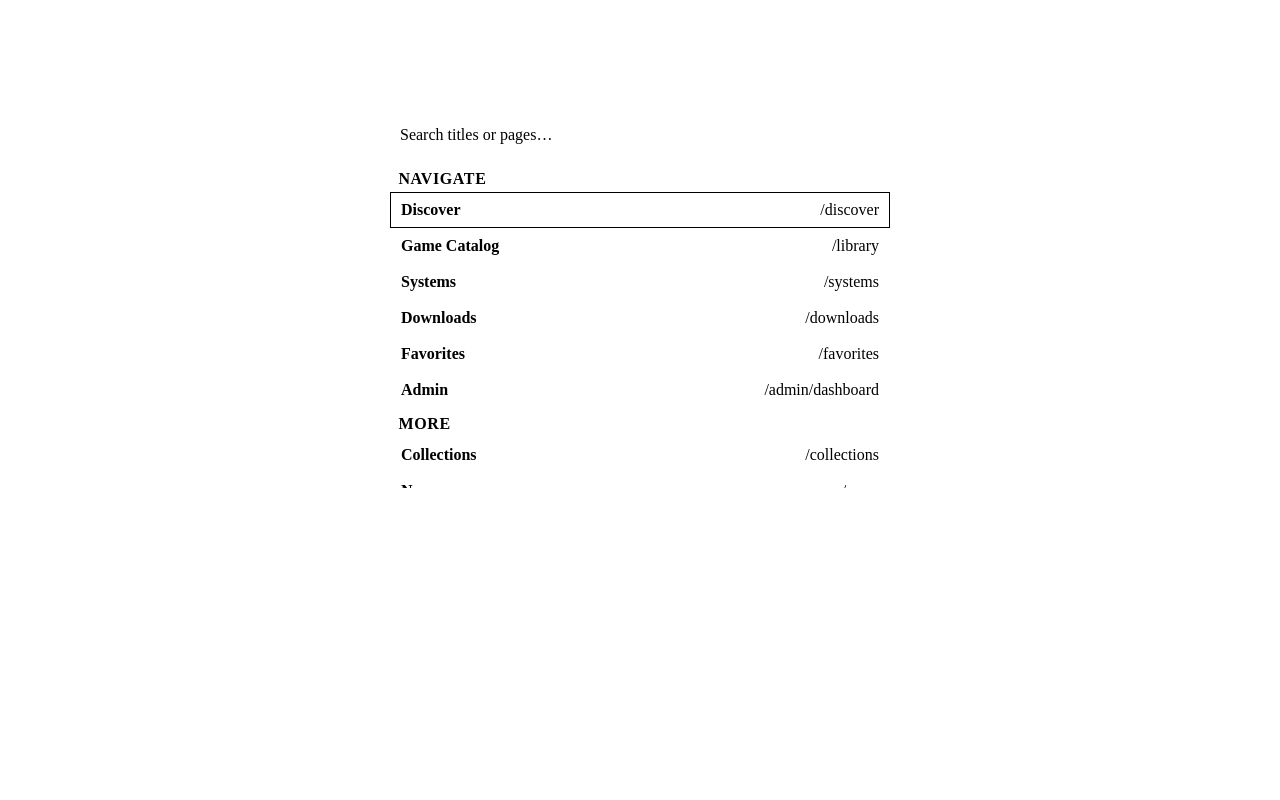
it: opens when open prop is true and filters by typeahead
Expected: the text "Game Catalog" is shown, [401, 237, 499, 255]
Expected: the text "Discover" is shown, [401, 201, 460, 219]
Type "chat" into the dropdown with placeholder "Search titles or pages…".
click(640, 135); type("chat")  # box [384, 112, 896, 157]
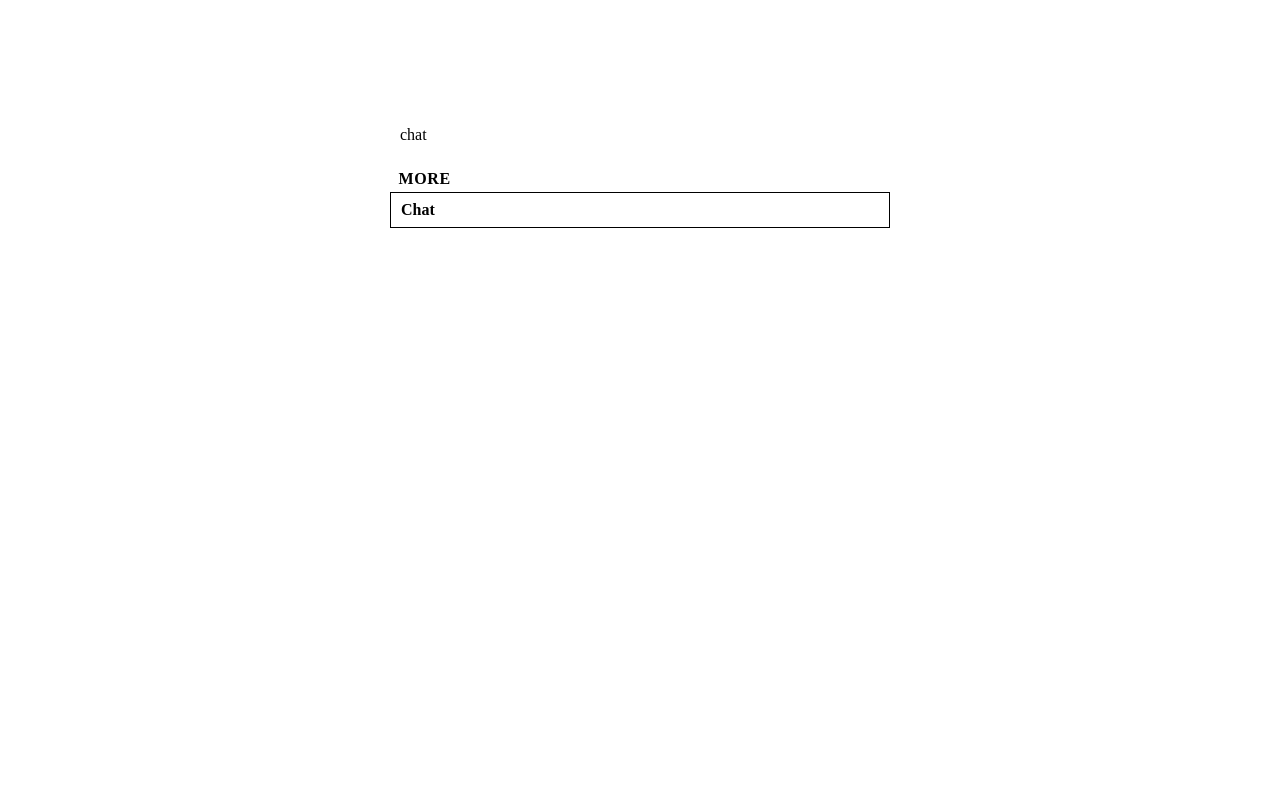
Expected: the text "Chat" is shown, [401, 201, 435, 219]
Expected: the option "Game Catalog" is gone
